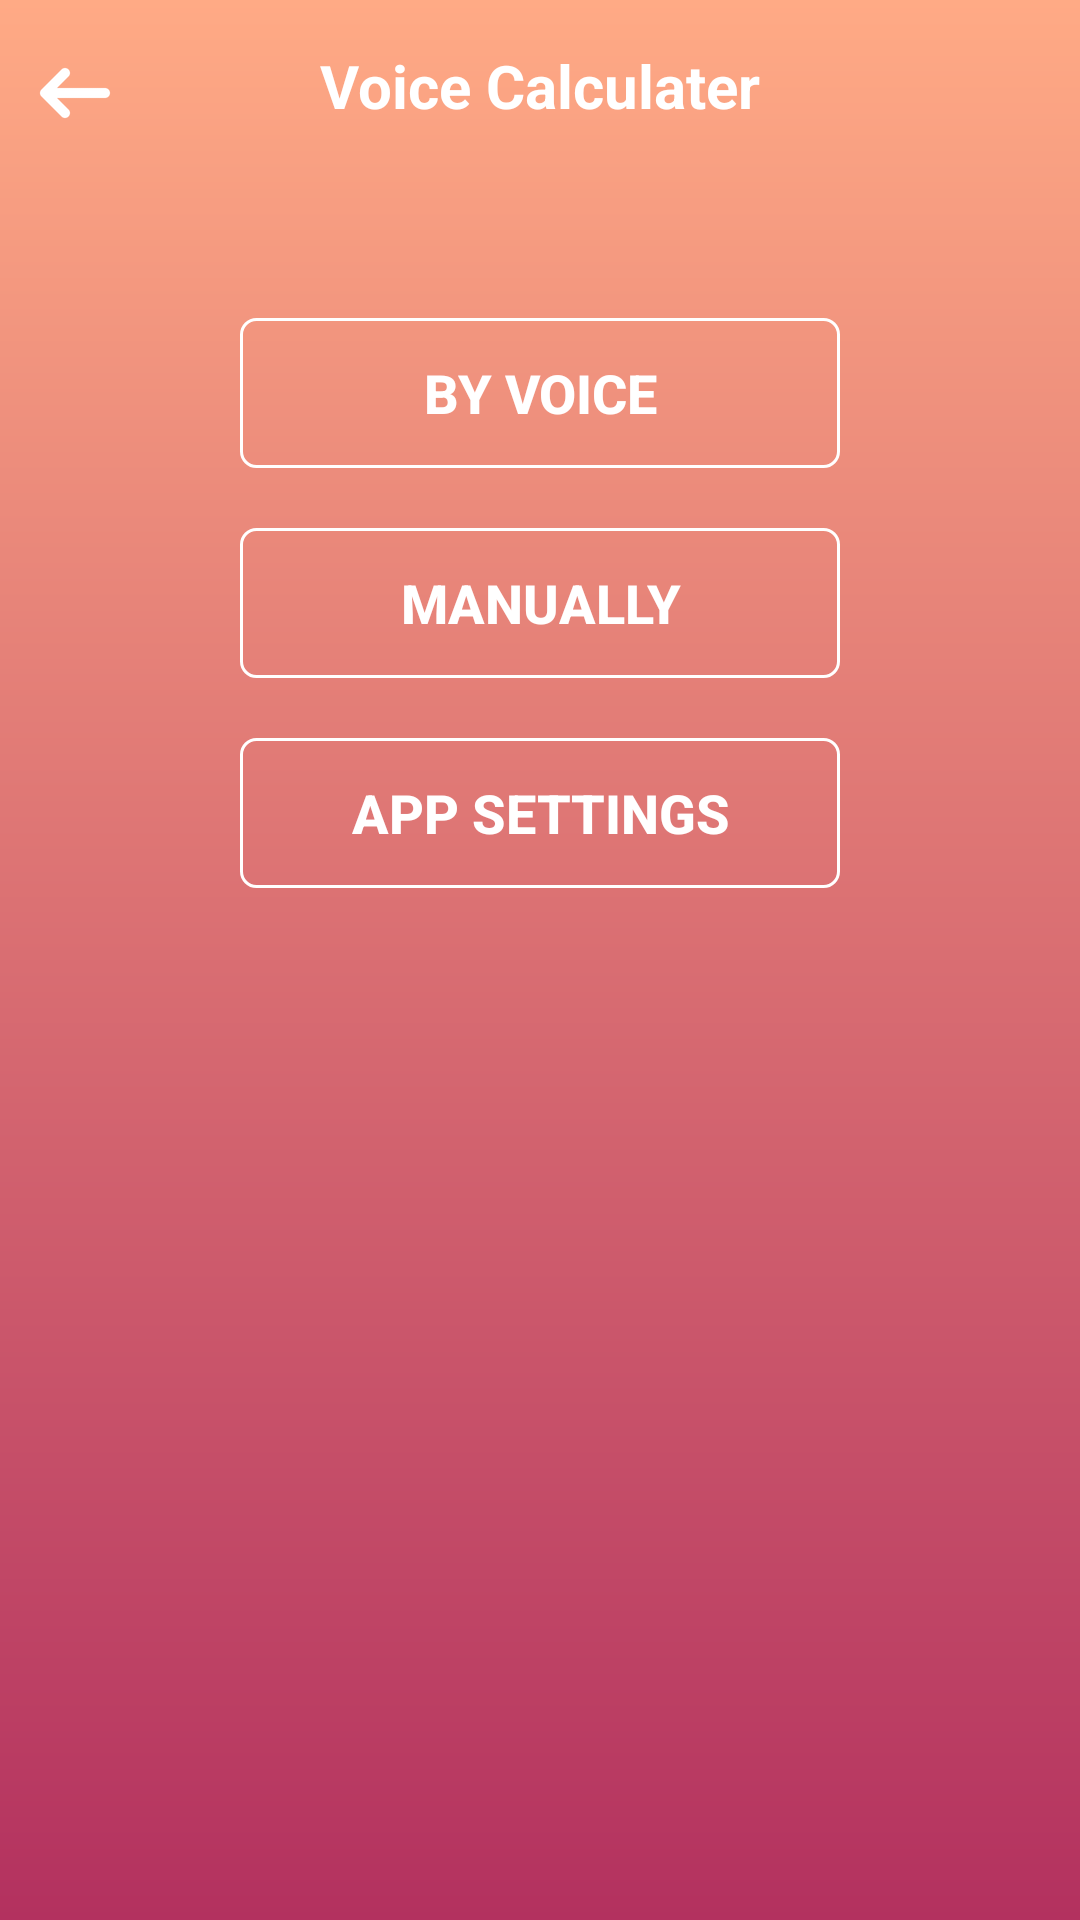

Screen size 1080 × 1920. Icon name, then its center in pixels as (x=x, y=y):
back: (x=75, y=93)
